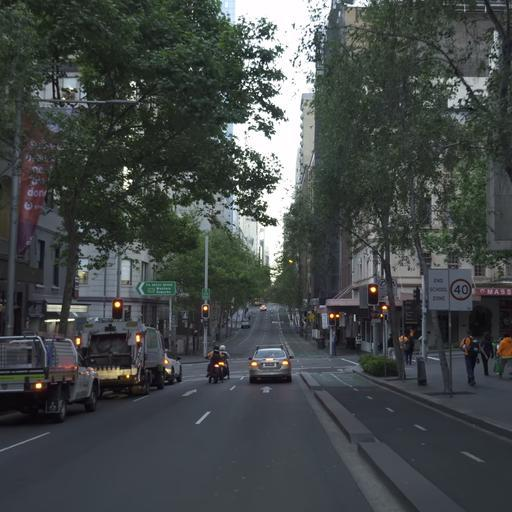Street light: (0, 93, 140, 336), (197, 216, 211, 357), (379, 302, 389, 376), (111, 297, 123, 320), (367, 283, 378, 306), (201, 303, 209, 319)
